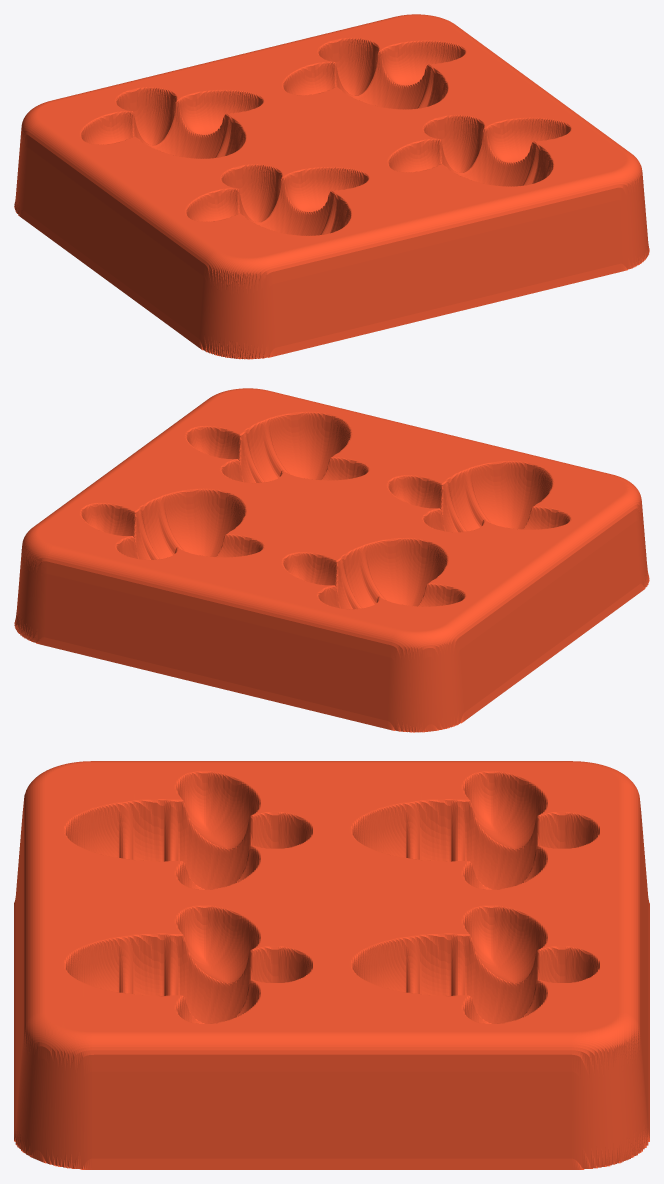
Rendered from mold.glb.
The picture shows the model from 3 angles, top to bottom: view 1: azimuth 30°, elevation 25°; view 2: azimuth 150°, elevation 25°; view 3: azimuth 270°, elevation 25°; orthographic projection. The views are drawn at different scales.
Visible parts, largest first — view 1: geometry_0; view 2: geometry_0; view 3: geometry_0.
Boxes of the visible parts, x1,y1,x2,y2 form: geometry_0: (14,14,649,359); geometry_0: (14,388,649,732); geometry_0: (14,761,649,1169).
Bounding box in the file's own units: 0.0808 × 0.0159 × 0.0736.
